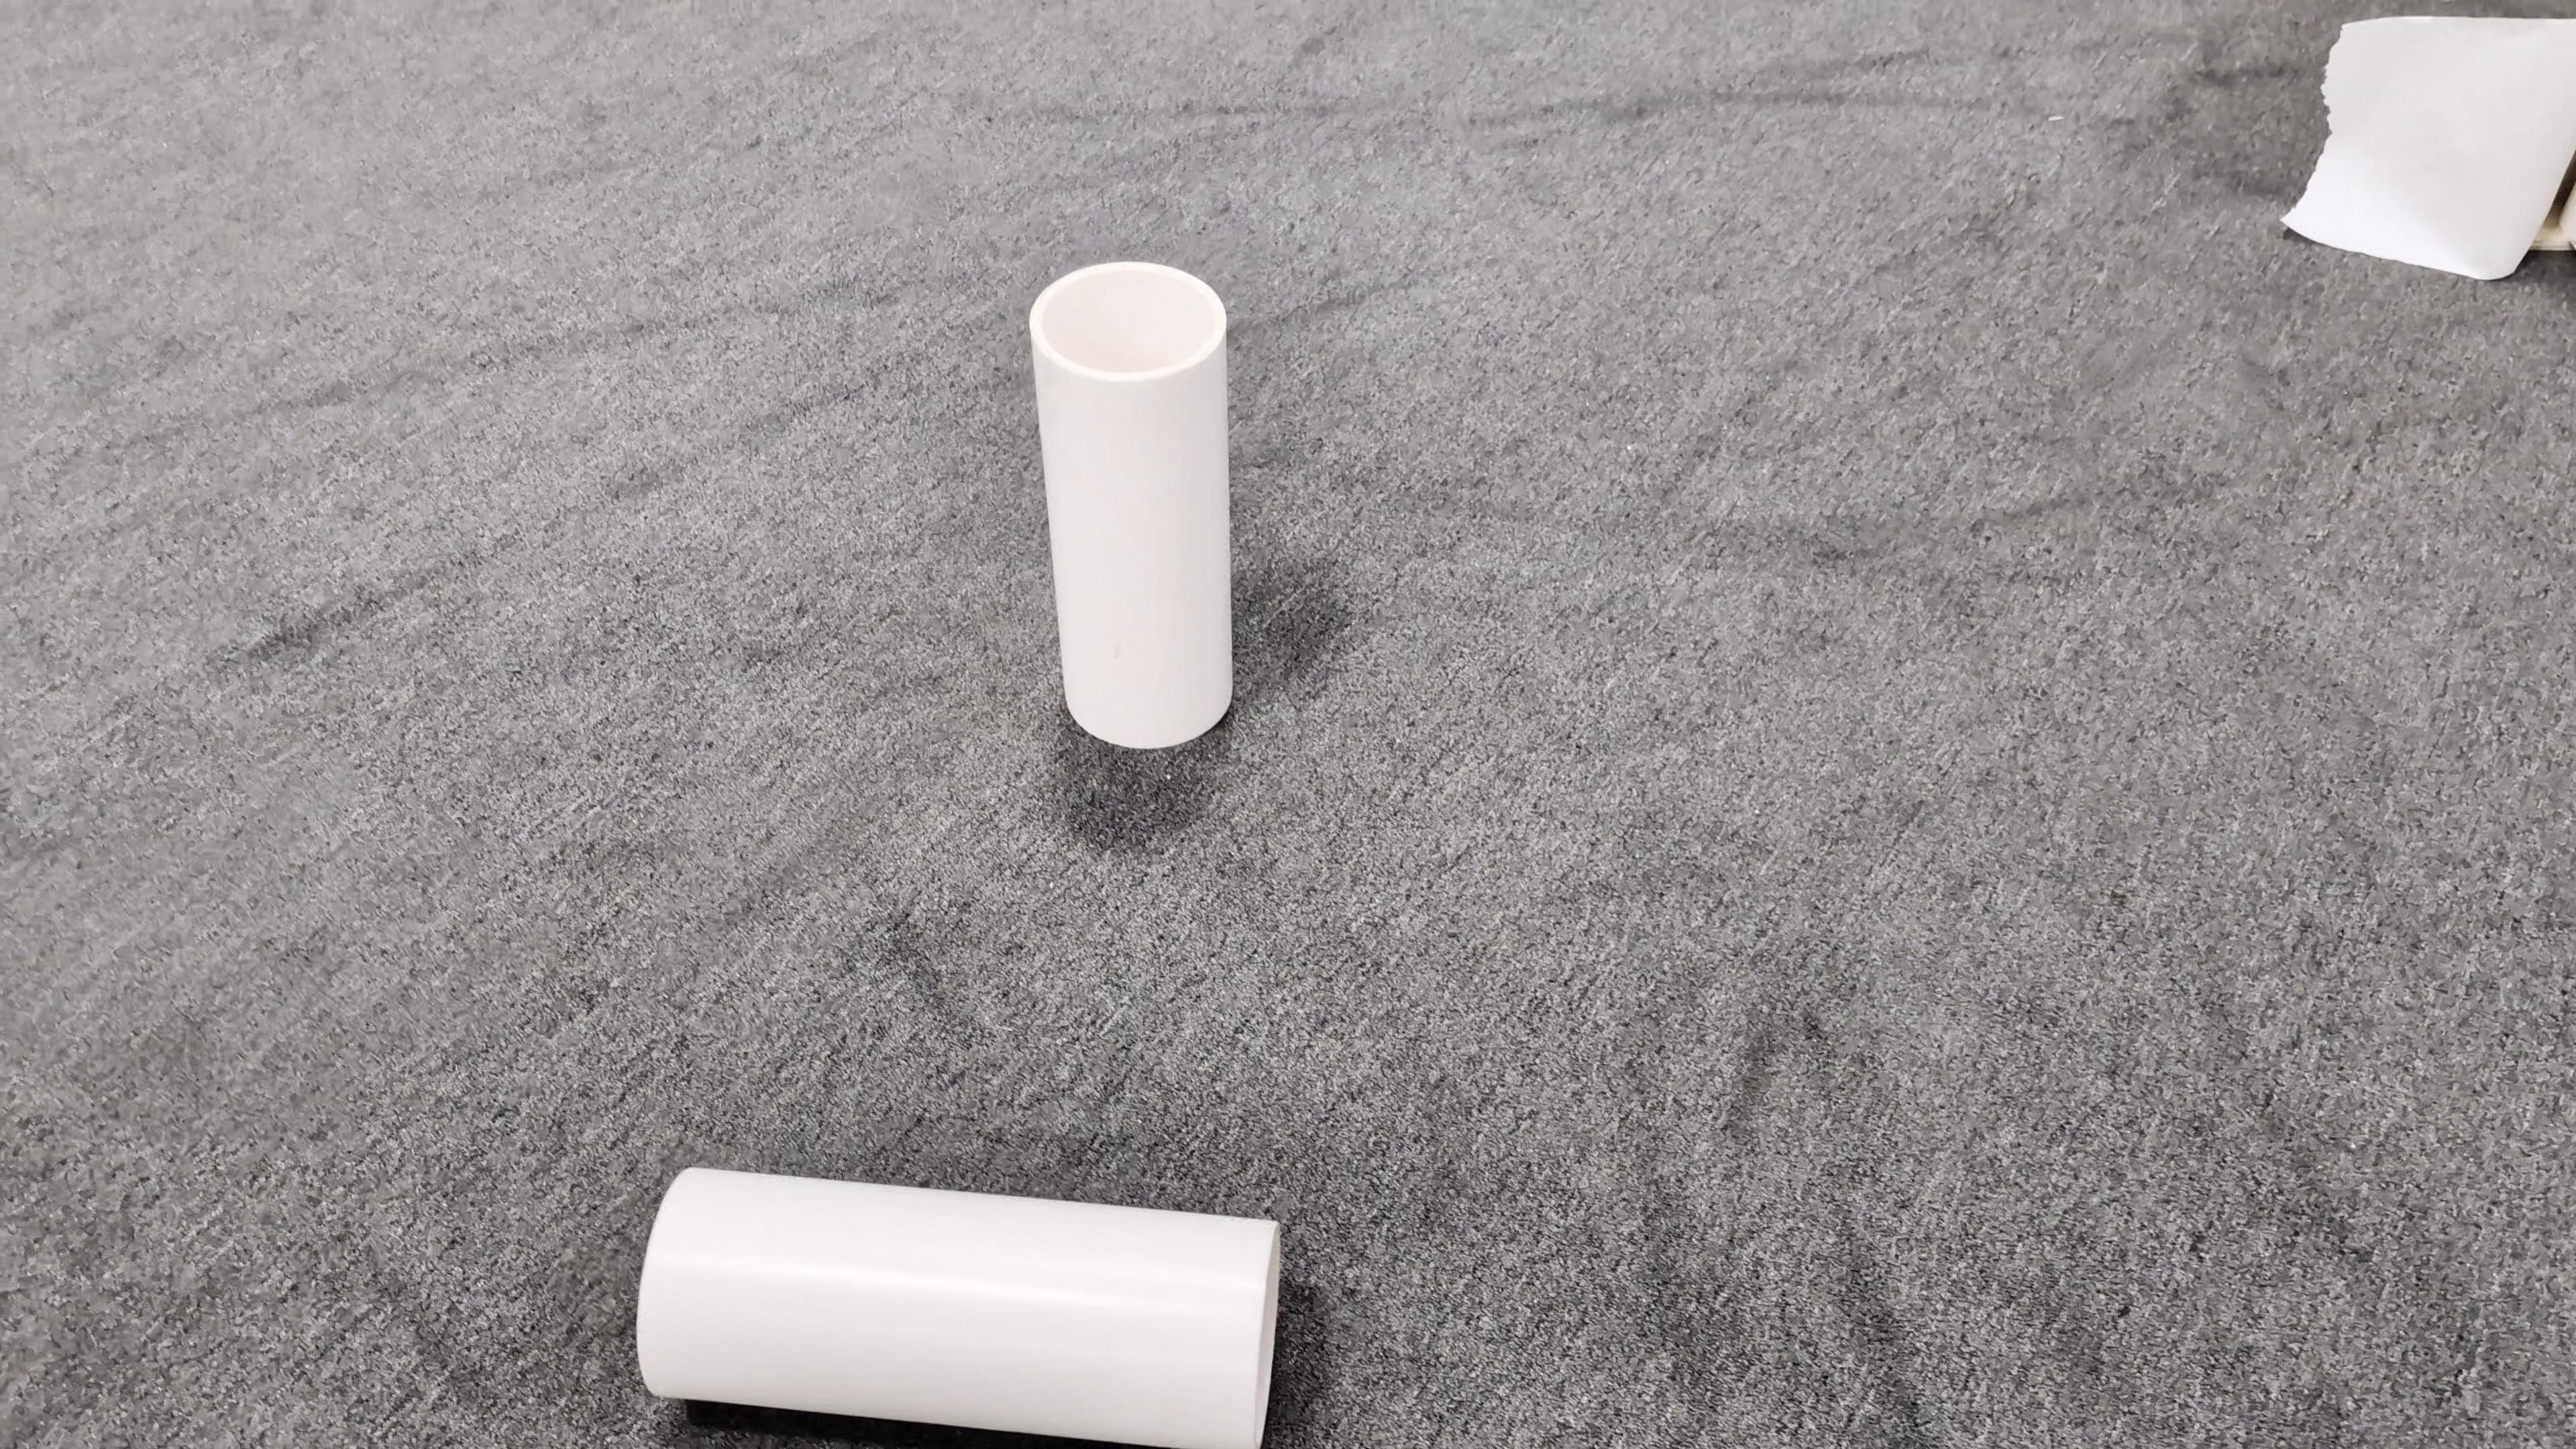coral: (635, 1162, 1284, 1449), (1026, 262, 1238, 748)
